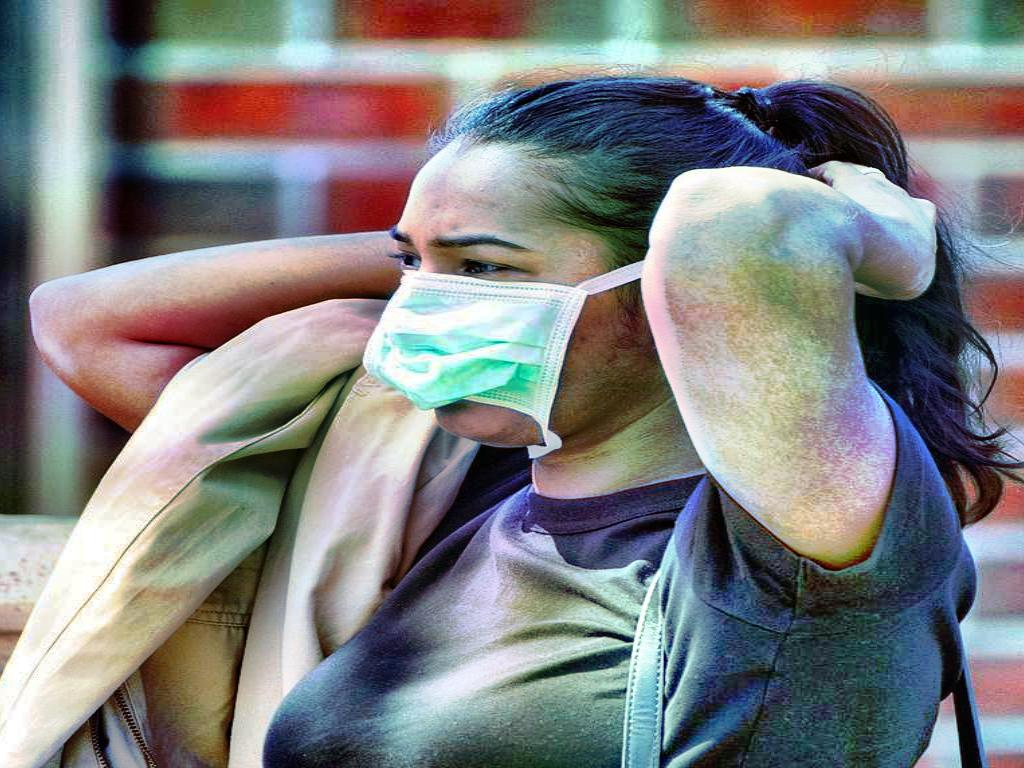mask_weared_incorrect: (356, 75, 806, 465)
